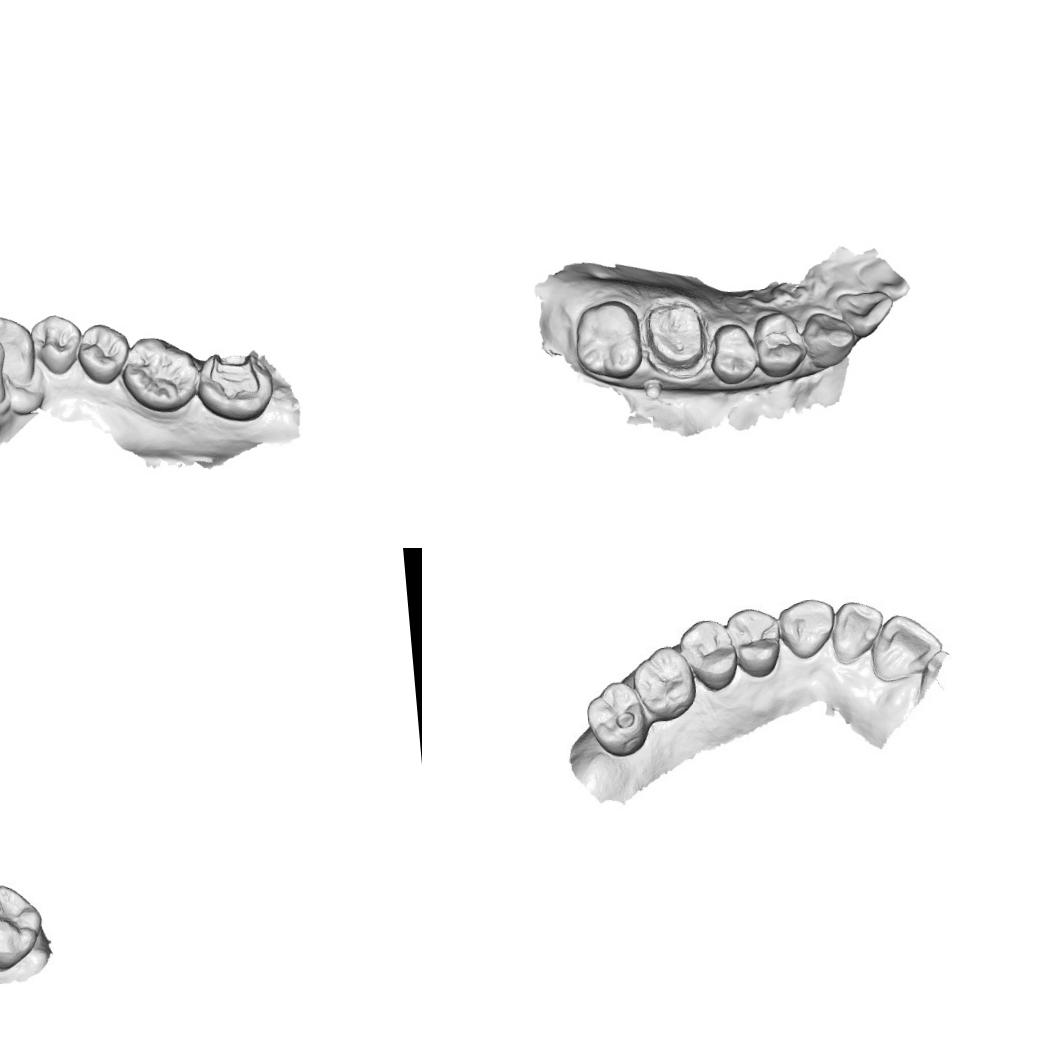canine: (800, 305, 860, 372), (780, 598, 836, 659), (0, 311, 39, 388)
crown: (640, 296, 710, 374)
incisor: (871, 614, 938, 683), (827, 600, 888, 666), (837, 285, 894, 340), (0, 338, 13, 407)
inlay: (203, 348, 267, 406)
molar: (116, 330, 204, 418), (568, 294, 644, 385), (582, 678, 649, 760), (630, 642, 693, 720), (0, 879, 47, 973)
premolar: (679, 617, 742, 691), (747, 303, 809, 376), (702, 315, 760, 388), (74, 318, 132, 386), (729, 605, 781, 677), (27, 310, 81, 378)
